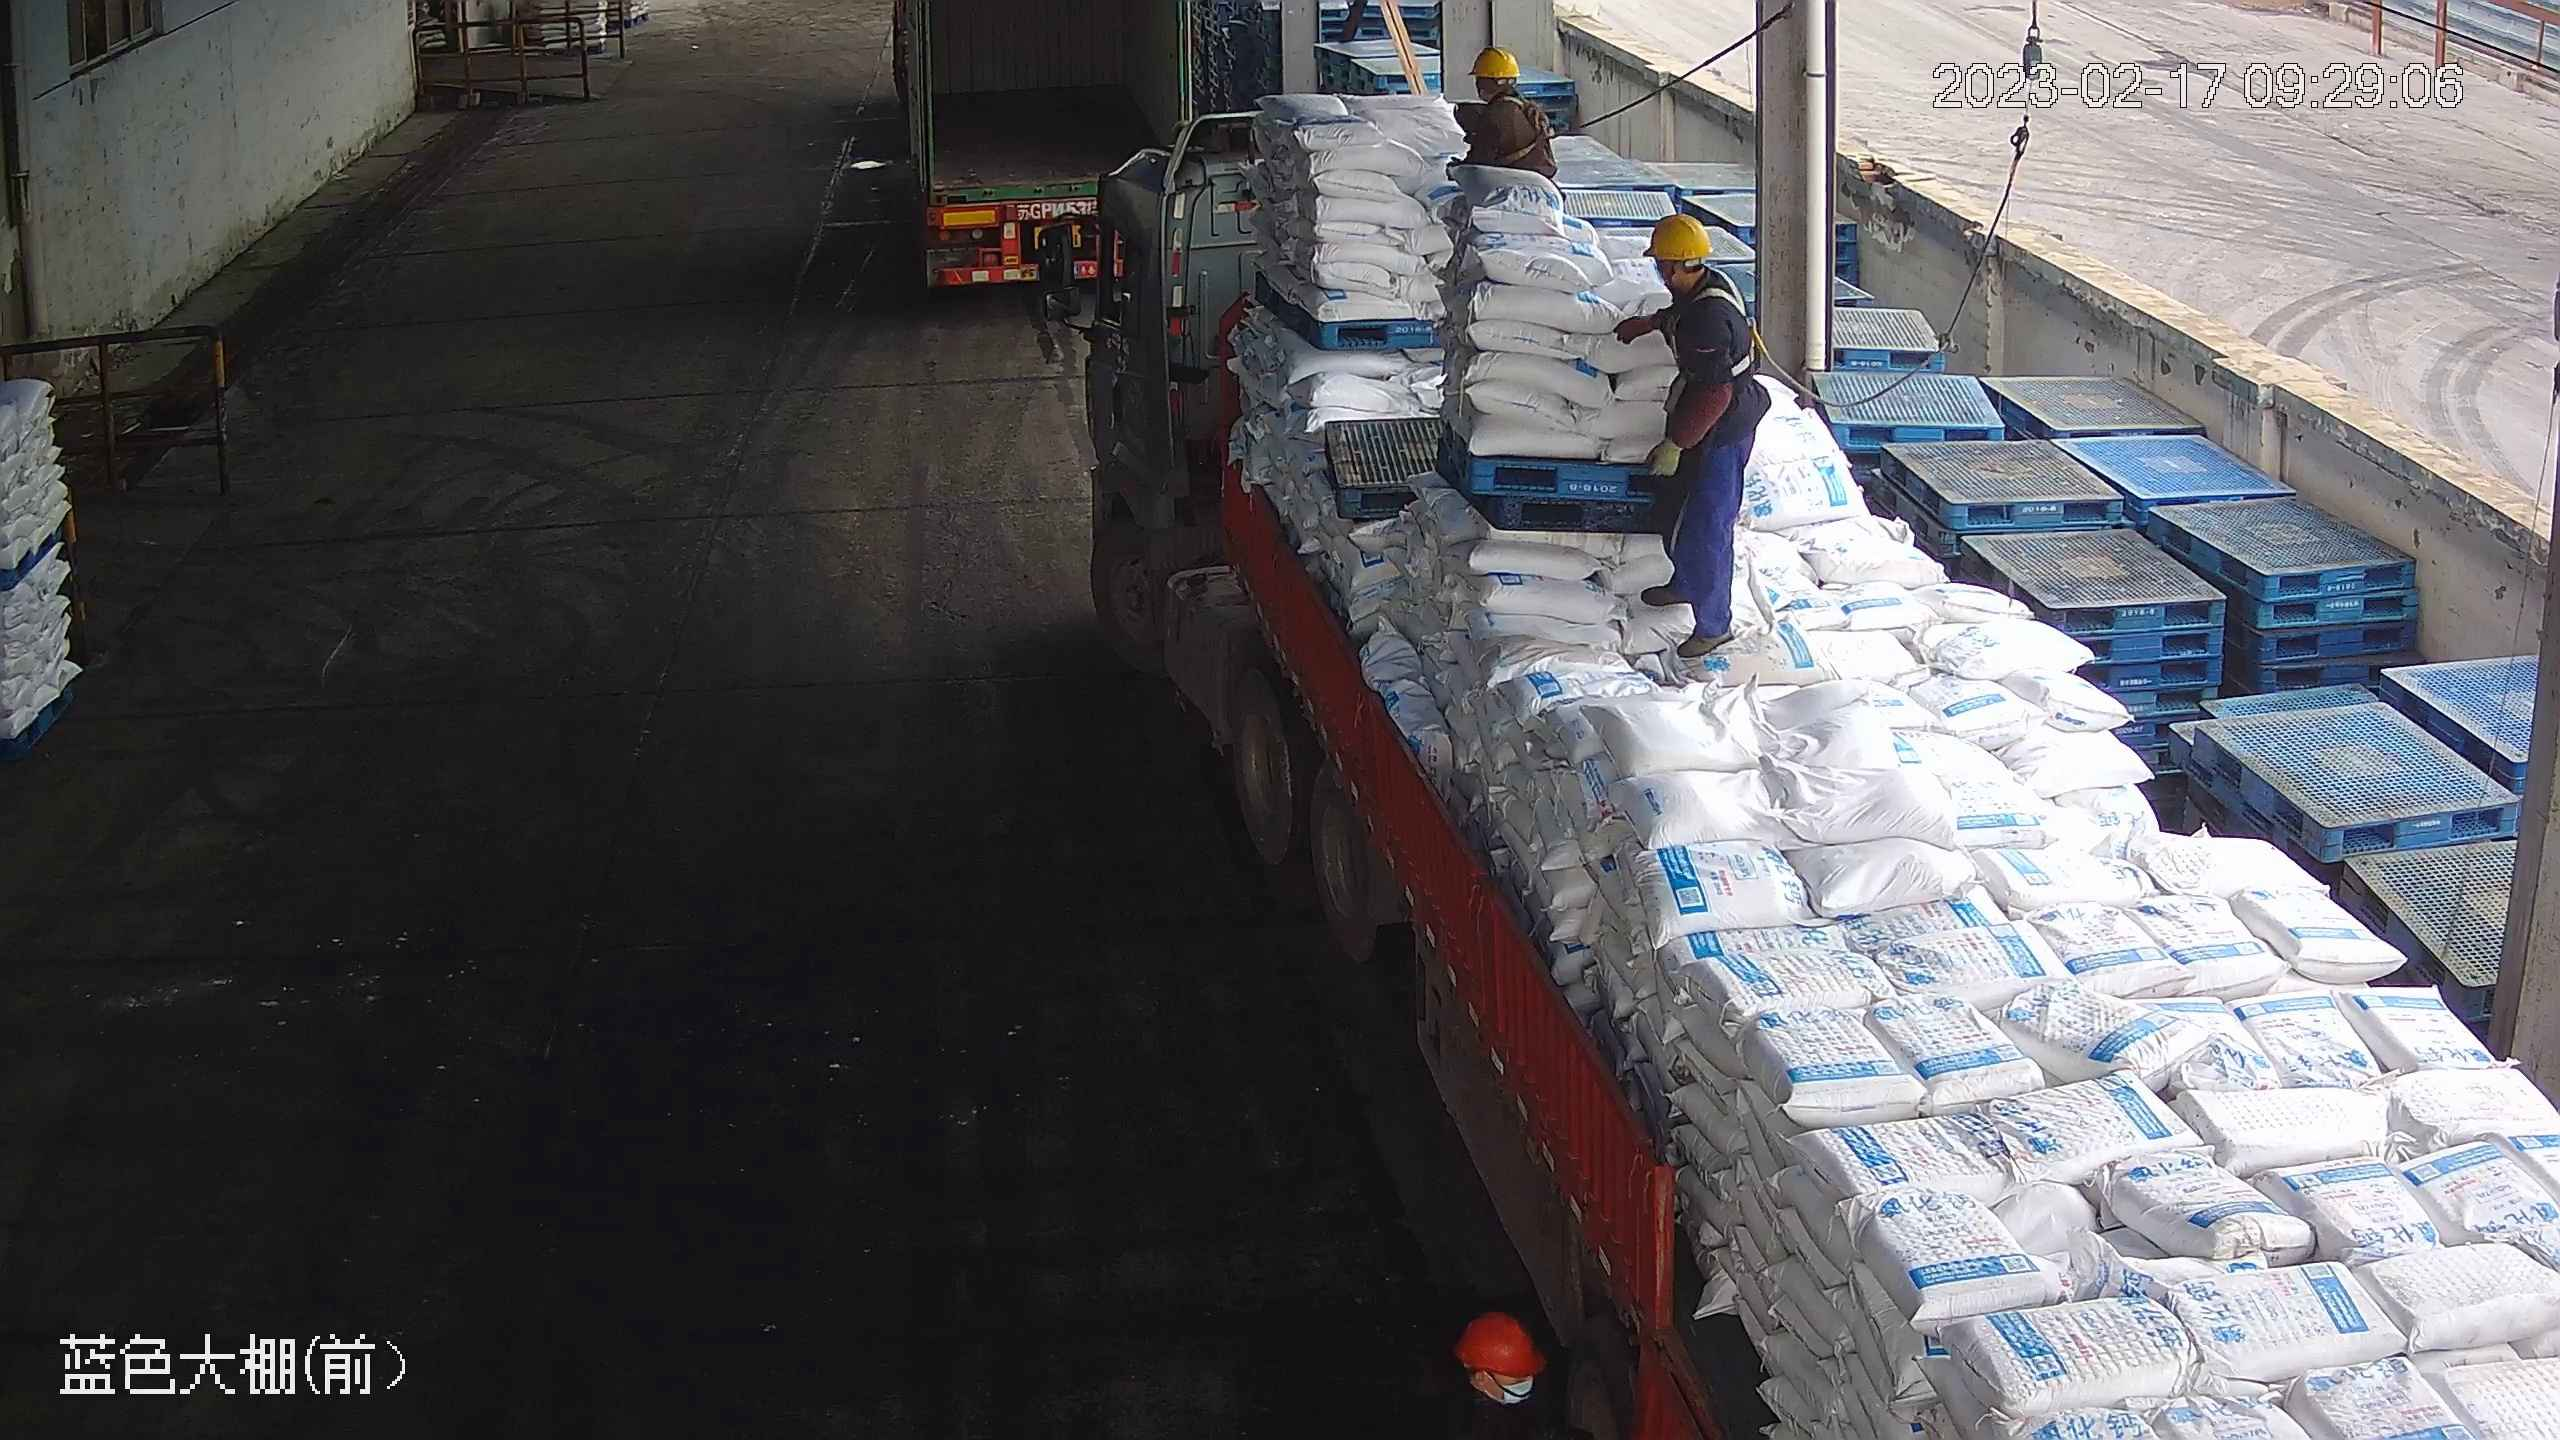belt: (1690, 264, 1790, 383), (1488, 89, 1571, 157)
head: (1630, 217, 1756, 366), (1445, 50, 1556, 162)
helmet: (1456, 1311, 1545, 1379), (1637, 211, 1717, 262), (1471, 49, 1525, 79)
people: (1613, 211, 1773, 657)
truck: (1023, 84, 2560, 1440), (878, 1, 1212, 308)
